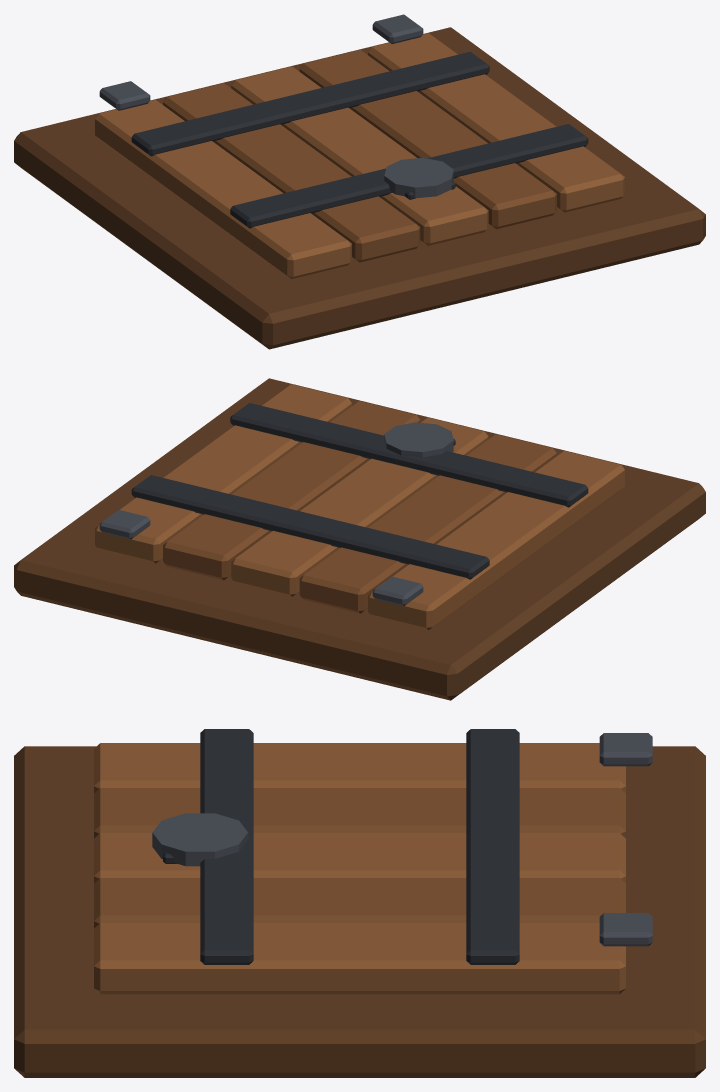
The model's file is trapdoor.glb.
3 renders of one model, top to bottom at view 1: azimuth 30°, elevation 25°; view 2: azimuth 150°, elevation 25°; view 3: azimuth 270°, elevation 25°, orthographic. The views are drawn at different scales.
Parts seen in each view (by area): view 1: trapdoor; view 2: trapdoor; view 3: trapdoor.
Part boxes in pixels (x1,y1,x2,y2): trapdoor: [14, 14, 705, 349]; trapdoor: [14, 378, 705, 700]; trapdoor: [14, 729, 705, 1077].
Size of the model in its own units: 1.3 by 0.215 by 1.3.
